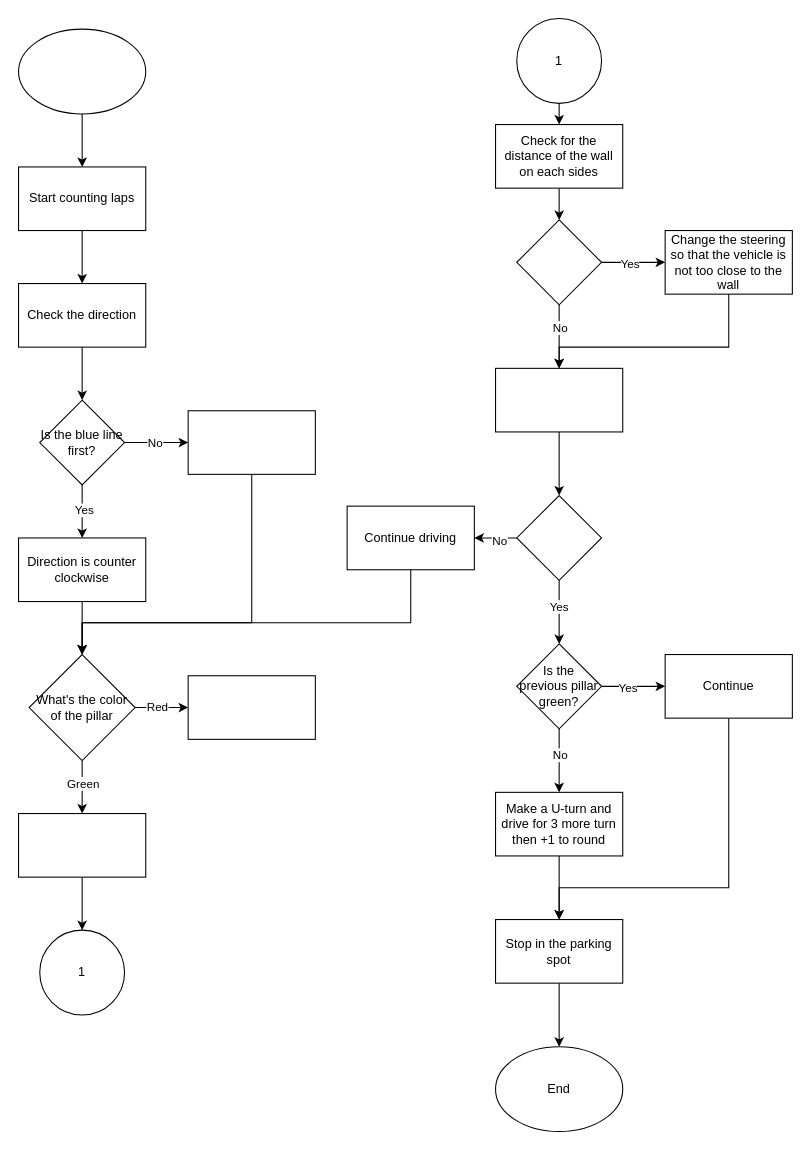
This 811x1150 diagram has some shape labels left out. Here are the shapes that lost their labels. From the top down, the centre of each, then its label:
At point 81,71: "Start".
At point 559,262: "Is the wall too close?".
At point 558,399: "Increment laps by 1 once 4 turn is made".
At point 251,442: "Direction is clockwise".
At point 559,537: "Is this the 12 turn?".
At point 251,707: "Drive around it from the right side".
At point 81,844: "Drive aroun it from the left side".
